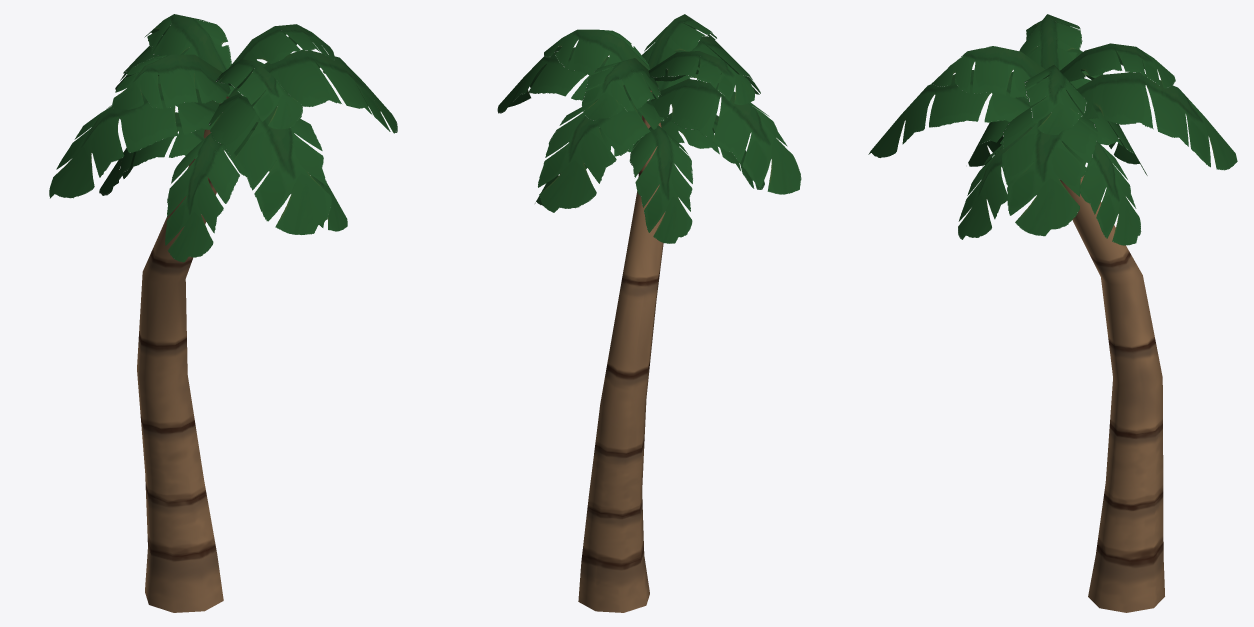
File: Pohon 4.fbx
The picture shows the model from 3 angles, left to right: view 1: azimuth 30°, elevation 25°; view 2: azimuth 150°, elevation 25°; view 3: azimuth 270°, elevation 25°; orthographic projection. The views are drawn at different scales.
Parts seen in each view (by area): view 1: Plane.001; view 2: Plane.001; view 3: Plane.001.
Part boxes in pixels (<box>): Plane.001: <box>49,14,397,612</box>; Plane.001: <box>497,14,801,612</box>; Plane.001: <box>868,14,1237,612</box>.
Bounding box in the file's own units: 727 × 1184 × 727.
